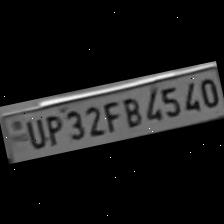0: (195, 73, 222, 110)
2: (80, 100, 106, 140)
3: (60, 106, 86, 142)
4: (138, 86, 165, 125), (176, 77, 201, 115)
5: (154, 82, 182, 120)
B: (116, 92, 143, 131)
F: (98, 97, 124, 136)
P: (39, 110, 65, 148)
U: (20, 116, 47, 150)
